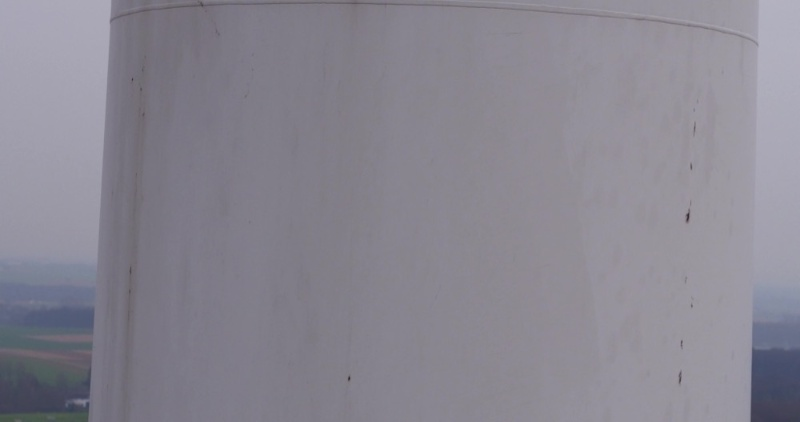weldseam: (107, 1, 763, 51)
